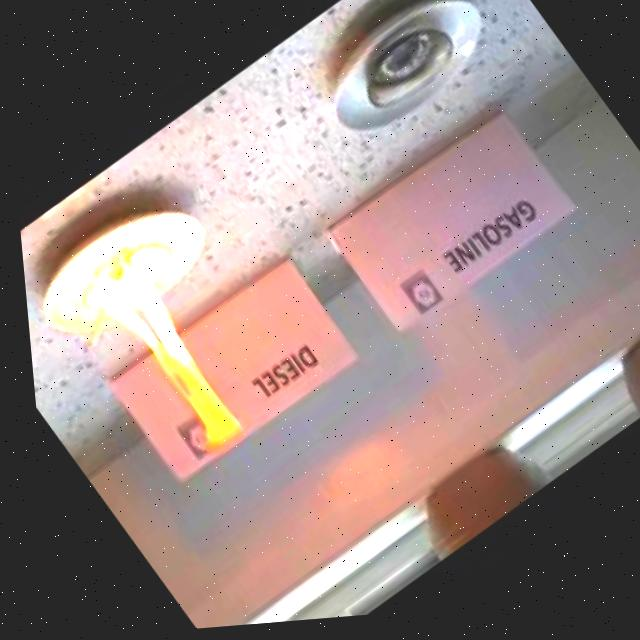Fire: (69, 235, 264, 476)
